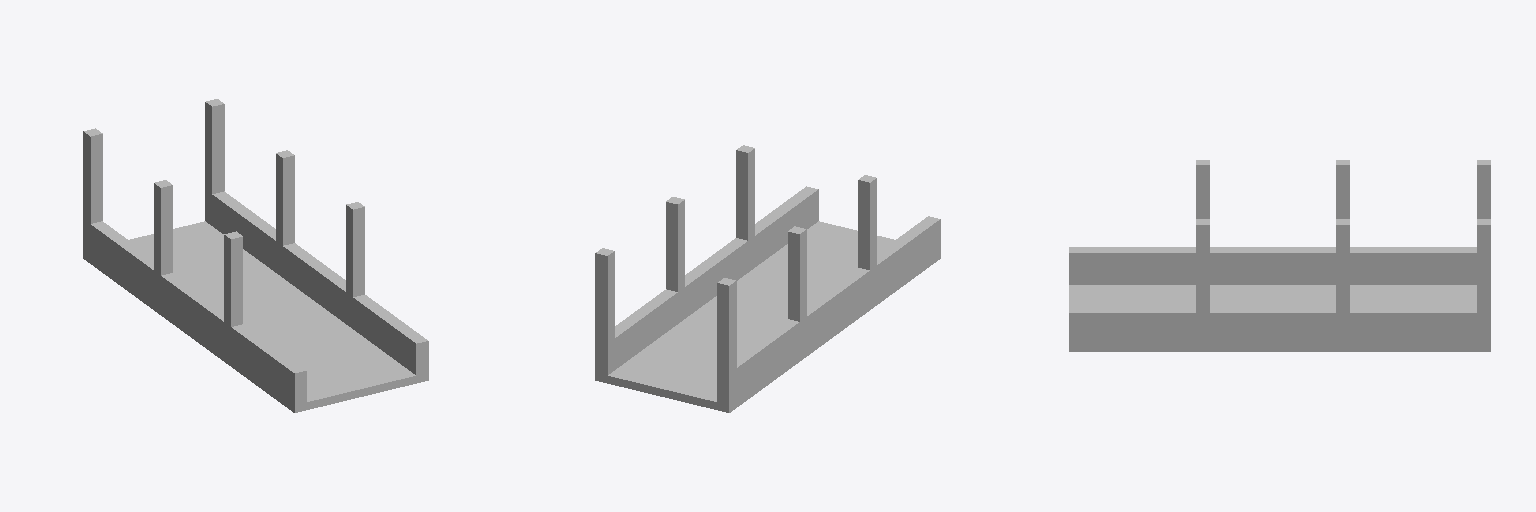
File: 3dMap_audi_bridge.obj
3 views of the same model, side by side, from view 1: azimuth 30°, elevation 25°; view 2: azimuth 150°, elevation 25°; view 3: azimuth 270°, elevation 25° (orthographic).
Visible parts, largest first — view 1: floor_A_B_立方体.450, underWindow_A_B_立方体.448, pillar_A_B_立方体.445; view 2: underWindow_A_B_立方体.448, floor_A_B_立方体.450, pillar_A_B_立方体.445; view 3: underWindow_A_B_立方体.448, floor_A_B_立方体.450, pillar_A_B_立方体.445.
Boxes of the visible parts, x1,y1,x2,y2 form: floor_A_B_立方体.450: [83, 221, 428, 412]; underWindow_A_B_立方体.448: [91, 191, 428, 404]; pillar_A_B_立方体.445: [83, 99, 364, 358]; underWindow_A_B_立方体.448: [615, 186, 940, 399]; floor_A_B_立方体.450: [595, 221, 940, 412]; pillar_A_B_立方体.445: [595, 145, 876, 404]; underWindow_A_B_立方体.448: [1069, 247, 1476, 343]; floor_A_B_立方体.450: [1069, 285, 1490, 351]; pillar_A_B_立方体.445: [1196, 160, 1490, 343].
Bounding box in the file's own units: 3.3 × 3 × 9.